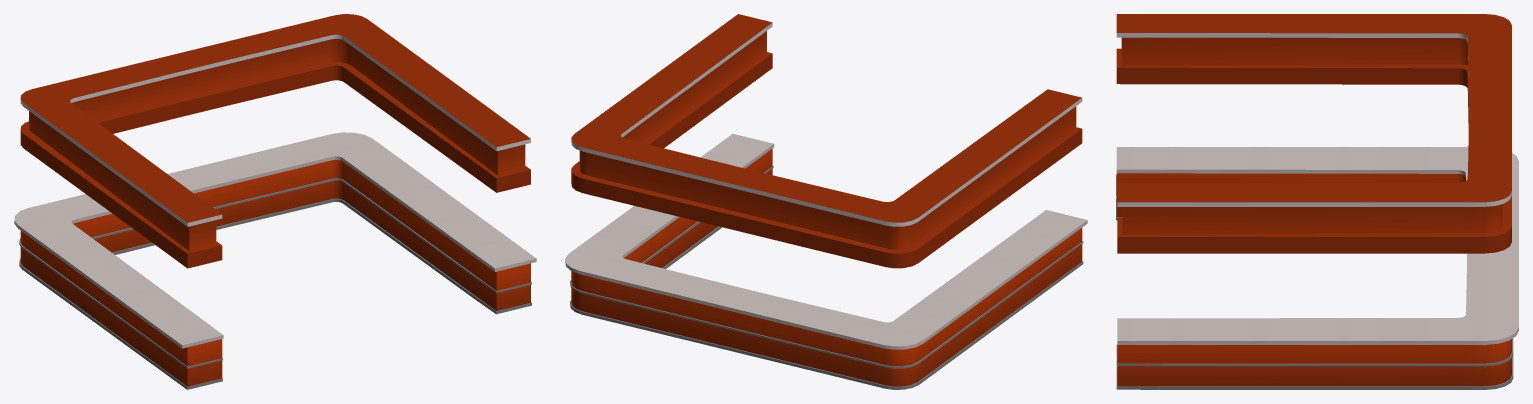
Rendered from DeskCounter.fbx.
3 views of the same model, side by side, from view 1: azimuth 30°, elevation 25°; view 2: azimuth 150°, elevation 25°; view 3: azimuth 270°, elevation 25° (orthographic). The views are drawn at different scales.
Parts seen in each view (by area): view 1: DeskCounterUpper, DeskCounterLower; view 2: DeskCounterUpper, DeskCounterLower; view 3: DeskCounterUpper, DeskCounterLower.
Part boxes in pixels (box(x1,y1,x2,y2)): DeskCounterUpper: box(20, 14, 530, 268); DeskCounterLower: box(14, 132, 536, 389); DeskCounterUpper: box(571, 14, 1082, 268); DeskCounterLower: box(565, 134, 1087, 389); DeskCounterUpper: box(1116, 14, 1511, 253); DeskCounterLower: box(1116, 147, 1518, 389).
Size of the model in its own units: 7.5 by 3.37 by 6.57.
